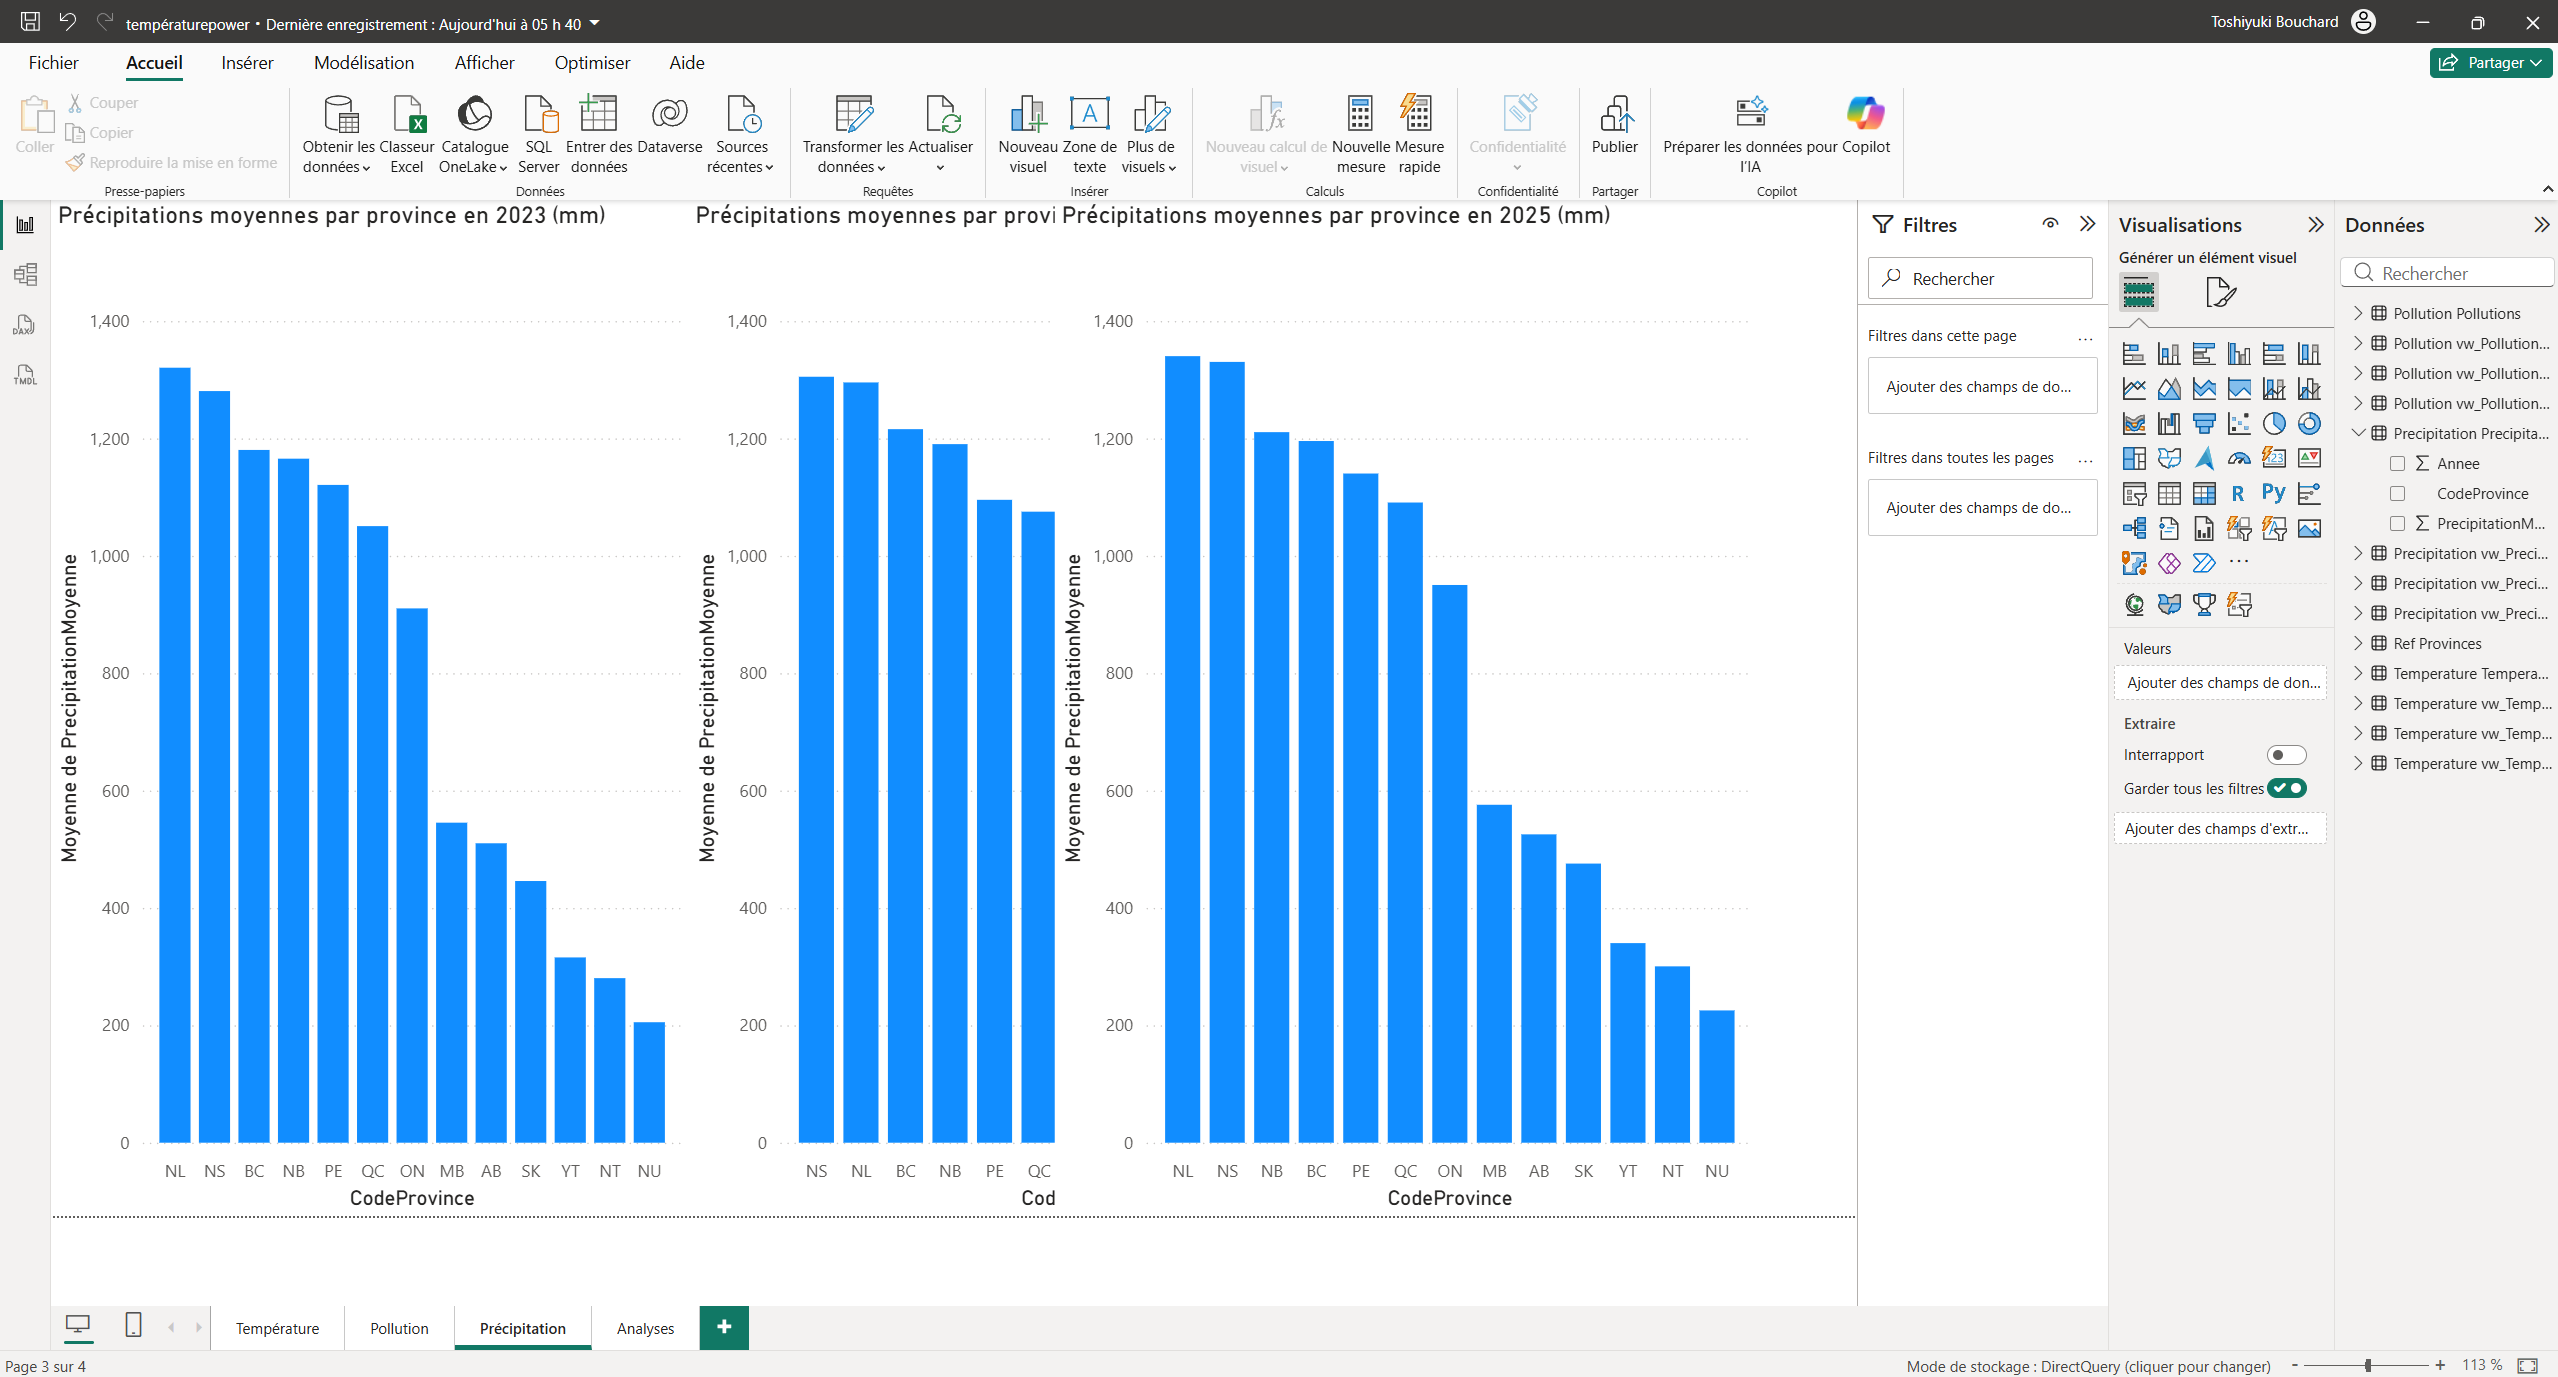

Layout of this report page (visuals, bound fields, positions):
{"tool":"powerbi","page":{"name":"Précipitation","canvas":[1280,720],"ordinal":2},"visuals":[{"type":"clusteredColumnChart","title":"Précipitations moyennes par province en 2023 (mm)","fields":{"Category":["Precipitation vw_Precipitation_2023.CodeProvince"],"Y":["Avg(Precipitation vw_Precipitation_2023.PrecipitationMoyenne)"]},"box":[0,0,451.8,720.3],"z":0},{"type":"clusteredColumnChart","title":"Précipitations moyennes par province en 2024 (mm)","fields":{"Category":["Precipitation vw_Precipitation_2024.CodeProvince"],"Y":["Avg(Precipitation vw_Precipitation_2024.PrecipitationMoyenne)"]},"box":[451.8,0,500,720.3],"z":1000},{"type":"clusteredColumnChart","title":"Précipitations moyennes par province en 2025 (mm)","fields":{"Category":["Precipitation vw_Precipitation_2025.CodeProvince"],"Y":["Avg(Precipitation vw_Precipitation_2025.PrecipitationMoyenne)"]},"box":[711.4,0,500,720.3],"z":2000}]}

Visuals, with their boxes on the page's 1280x720 design canvas (x1, y1, x2, y2). These are canvas units, not pixel positions in the 2558x1377 screenshot, which may show the page scaled, cropped or inside an application window:
"Précipitations moyennes par province en 2023 (mm)" clusteredColumnChart: region(0, 0, 452, 720)
"Précipitations moyennes par province en 2024 (mm)" clusteredColumnChart: region(452, 0, 952, 720)
"Précipitations moyennes par province en 2025 (mm)" clusteredColumnChart: region(711, 0, 1211, 720)
